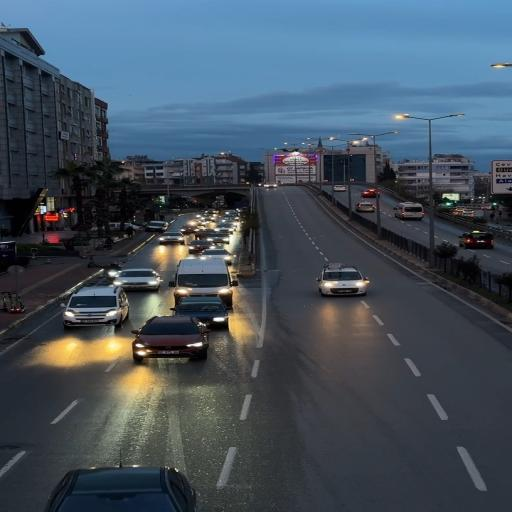car: (45, 465, 196, 511), (132, 316, 209, 362), (169, 257, 238, 307), (61, 286, 129, 328), (171, 297, 228, 327), (317, 264, 369, 295), (114, 269, 161, 290), (459, 231, 494, 249), (394, 202, 424, 220), (202, 248, 233, 265), (195, 230, 229, 243), (188, 240, 215, 253), (159, 232, 184, 244), (145, 221, 168, 232), (207, 232, 229, 243), (218, 219, 238, 230), (355, 202, 376, 212), (195, 229, 215, 239), (215, 224, 235, 234), (124, 222, 144, 231), (180, 224, 198, 234), (361, 189, 378, 197), (460, 209, 475, 217), (202, 216, 215, 223), (205, 210, 218, 217), (334, 185, 347, 191), (264, 183, 277, 188)
lights: (106, 310, 120, 316), (490, 63, 511, 67), (188, 342, 204, 347), (64, 310, 75, 317), (213, 317, 227, 322), (218, 289, 230, 293), (135, 343, 145, 347)
